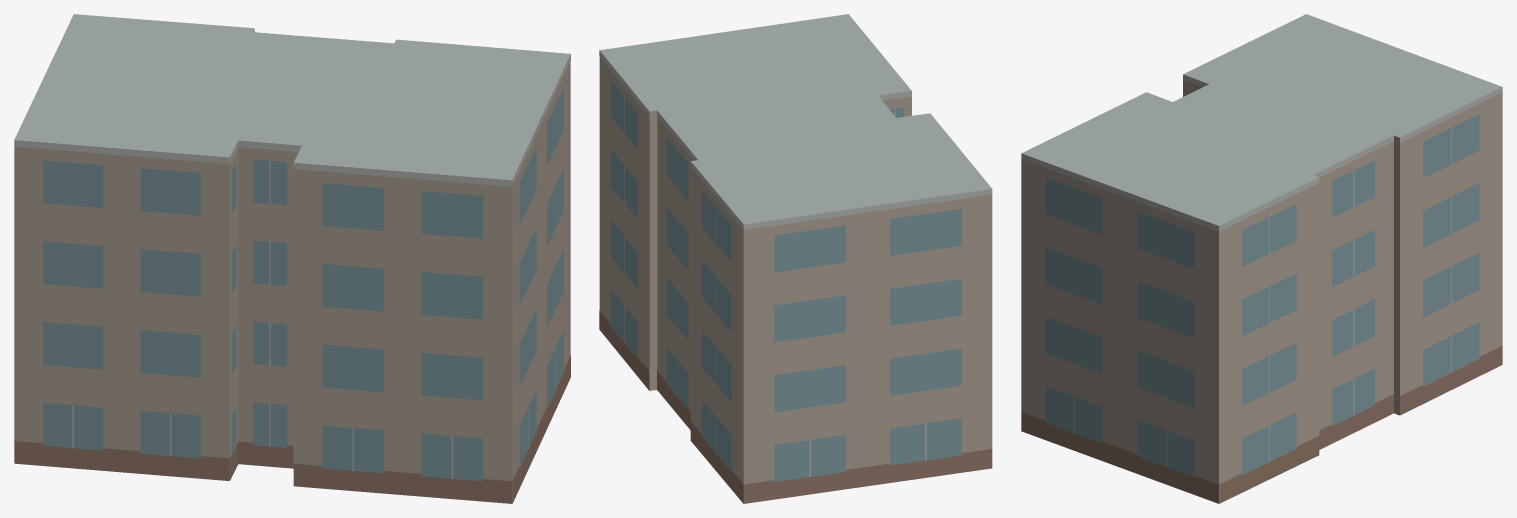
File: survey-upis-32667545.glb
3 renders of one model, left to right at view 1: azimuth 30°, elevation 25°; view 2: azimuth 150°, elevation 25°; view 3: azimuth 270°, elevation 25°, orthographic. The views are drawn at different scales.
Parts seen in each view (by area): view 1: survey-upis-32667545.tmp; view 2: survey-upis-32667545.tmp; view 3: survey-upis-32667545.tmp.
Boxes of the visible parts, left/top/right/bottom form: survey-upis-32667545.tmp: left=14, top=14, right=570, bottom=503; survey-upis-32667545.tmp: left=599, top=14, right=992, bottom=503; survey-upis-32667545.tmp: left=1021, top=14, right=1502, bottom=503.
Bounding box in the file's own units: 19.57 × 11.95 × 18.77.
